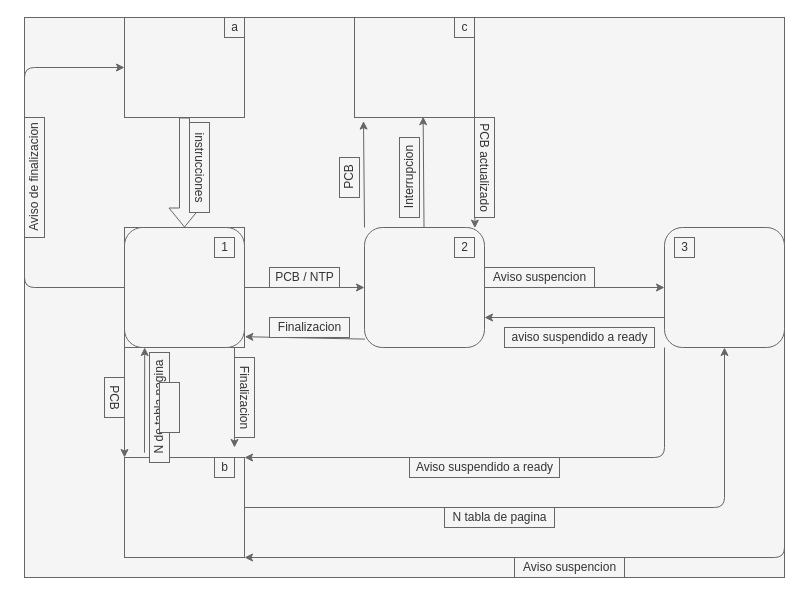
Image size: 810x595. Some labels were removed from this diagram. The box of each missing label's shape, as (x1, y1, x2, y2) in pixels:
(NTP): (158, 382, 180, 432)
Consolas: (124, 16, 244, 118)
CPU: (354, 16, 474, 118)
Memoria: (124, 456, 244, 558)
P. Corto Plazo: (364, 226, 484, 348)
P. Largo Plazo: (124, 226, 244, 348)
P. Mediano Plazo: (664, 226, 784, 348)
